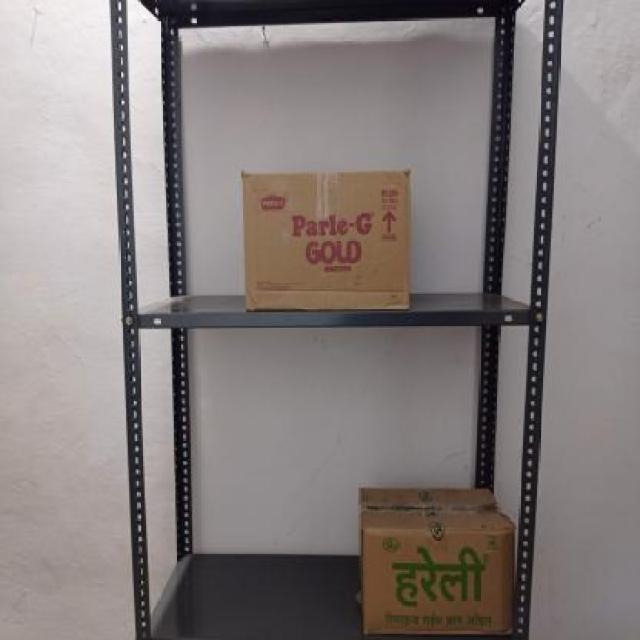box: (242, 172, 412, 310), (360, 526, 514, 637)
